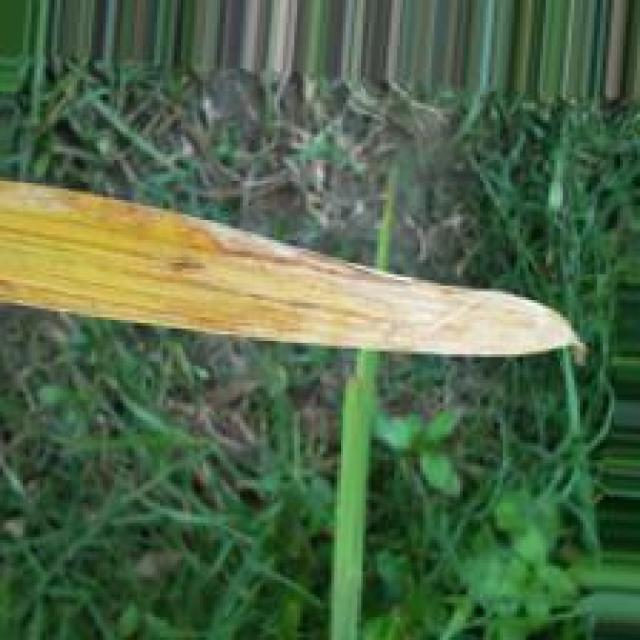Bacterial_Leaf_Blight: (0, 176, 601, 356)
